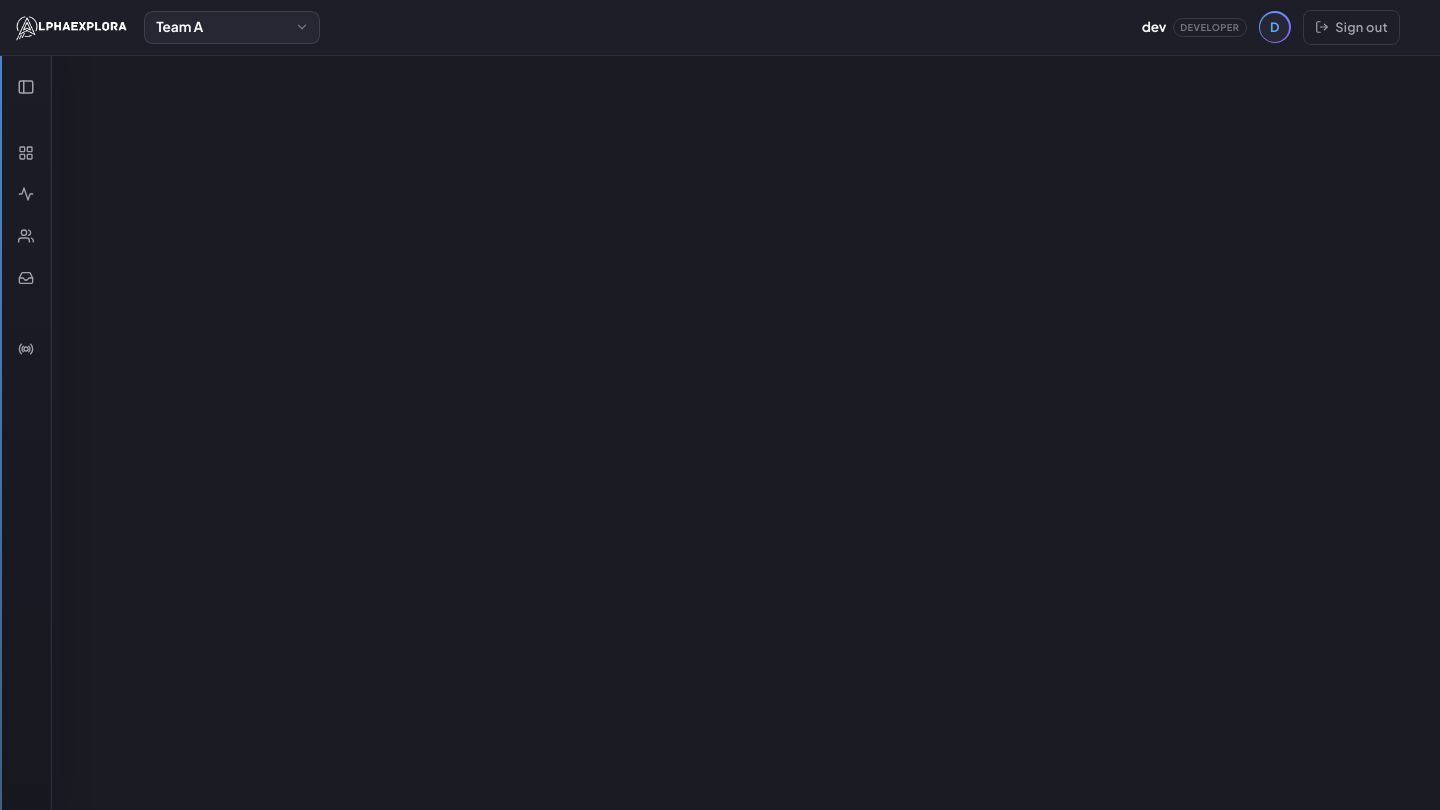
ProjectDetailView header team › leaves for the picked team's Projects page, and the pick stands
The image size is (1440, 810).
Click the button "Team A": (232, 28) [144,11,320,44]
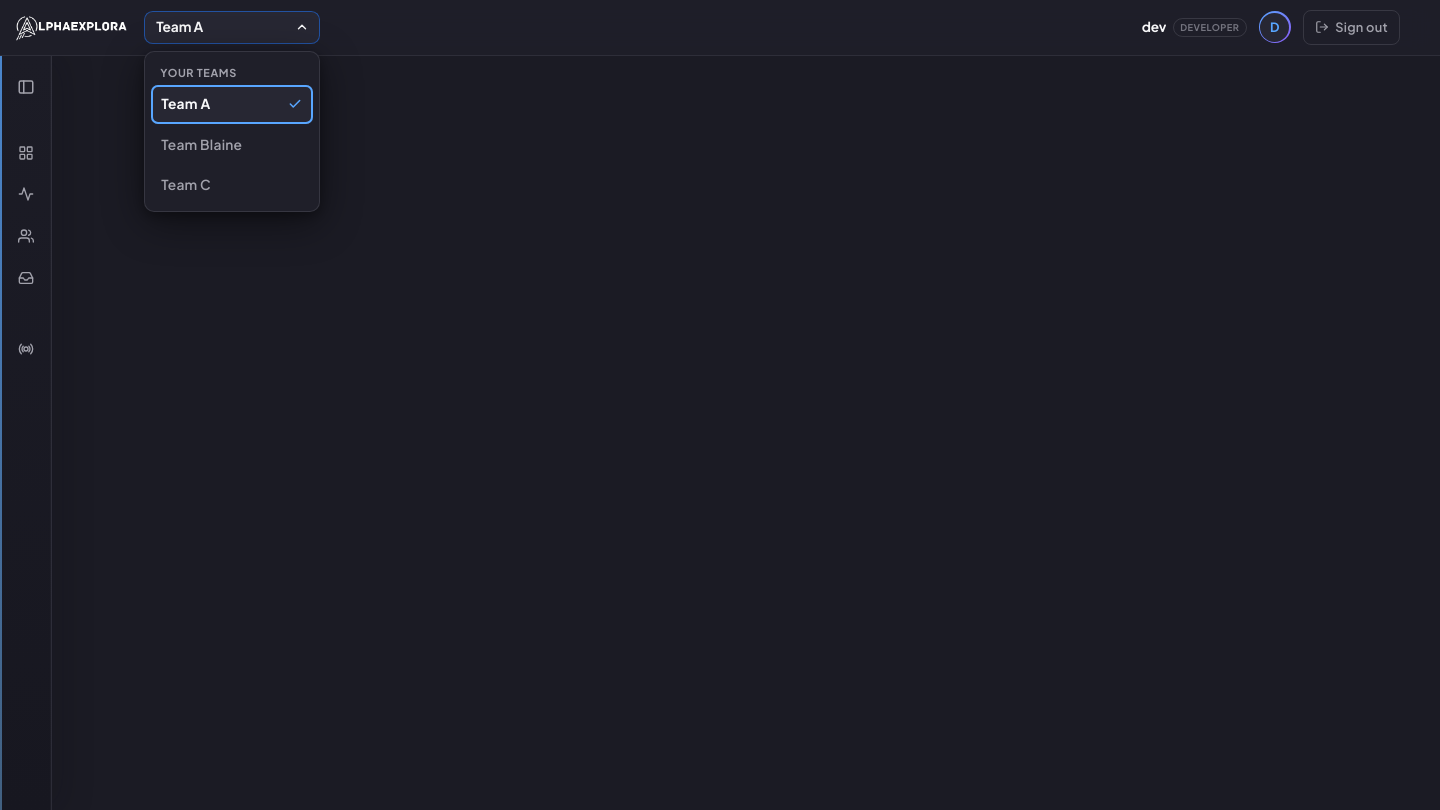
Click the option "Team C": (186, 185) [161,176,211,193]
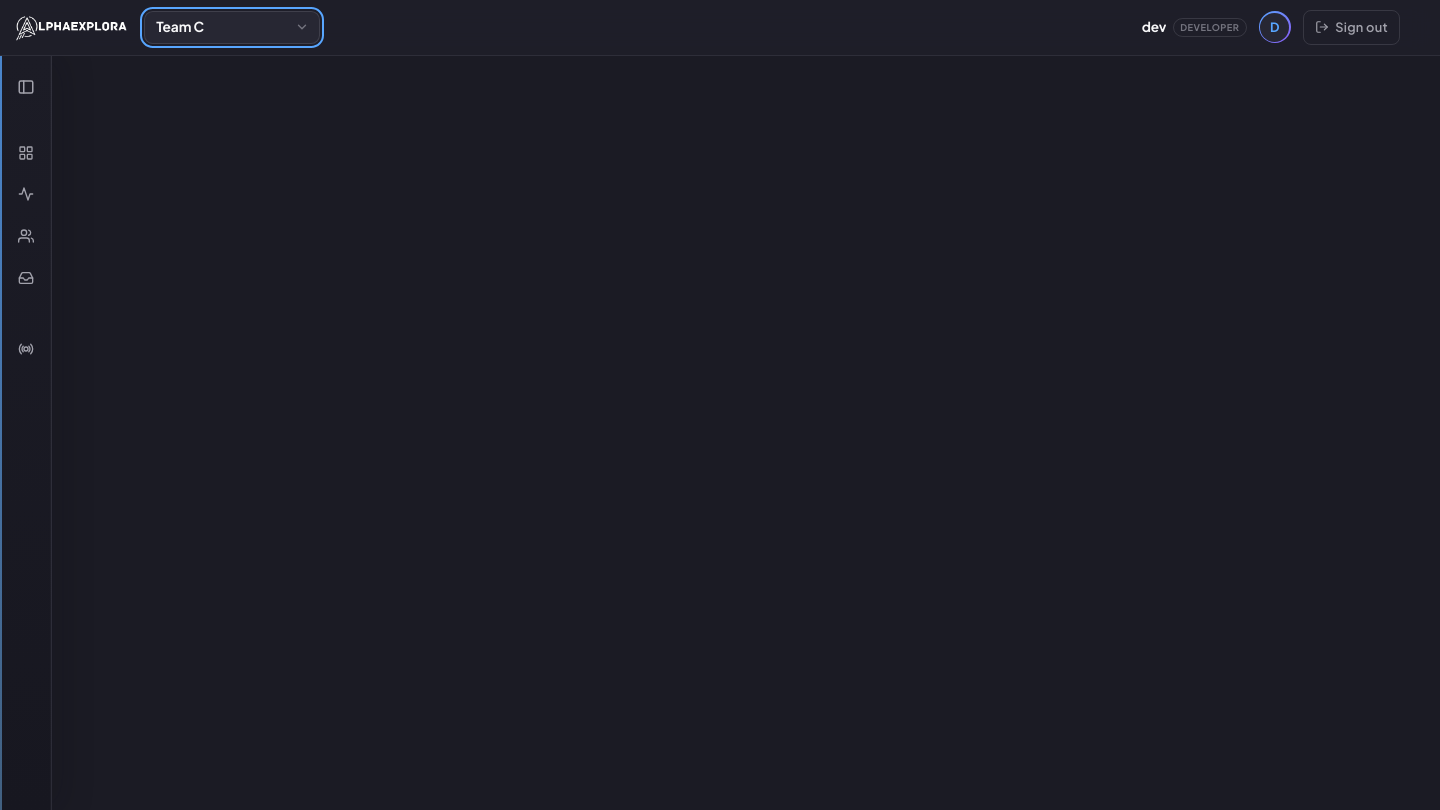
Expected: the button "Team C" is shown, [144,11,320,44]
